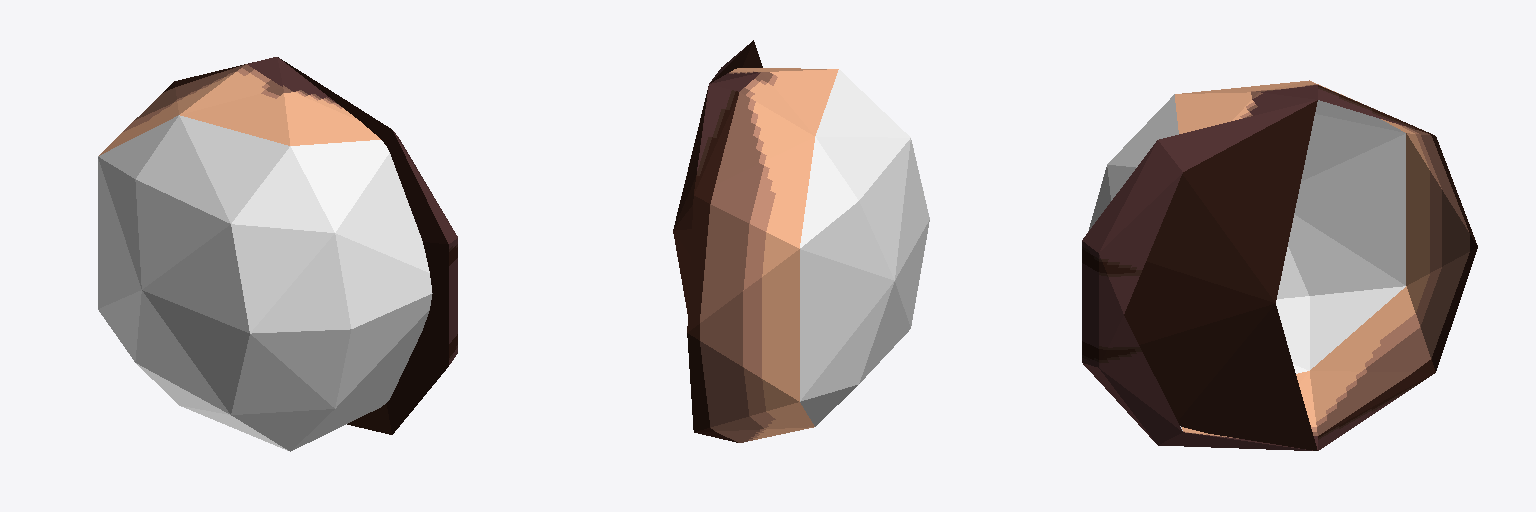
3 views of the same model, side by side, from view 1: azimuth 30°, elevation 25°; view 2: azimuth 150°, elevation 25°; view 3: azimuth 270°, elevation 25° (orthographic).
Parts seen in each view (by area): view 1: polygon1, polygon2, polygon0; view 2: polygon2, polygon1; view 3: polygon2, polygon1, polygon0.
Boxes of the visible parts, x1,y1,x2,y2 form: polygon1: [98, 115, 350, 451]; polygon2: [99, 57, 457, 434]; polygon0: [291, 140, 432, 450]; polygon2: [673, 40, 838, 442]; polygon1: [800, 70, 929, 426]; polygon2: [1082, 80, 1477, 450]; polygon1: [1276, 100, 1405, 373]; polygon0: [1088, 94, 1182, 430].
Size of the model in its own units: 1.03 by 1.44 by 1.47.
3 materials, 1 textured.